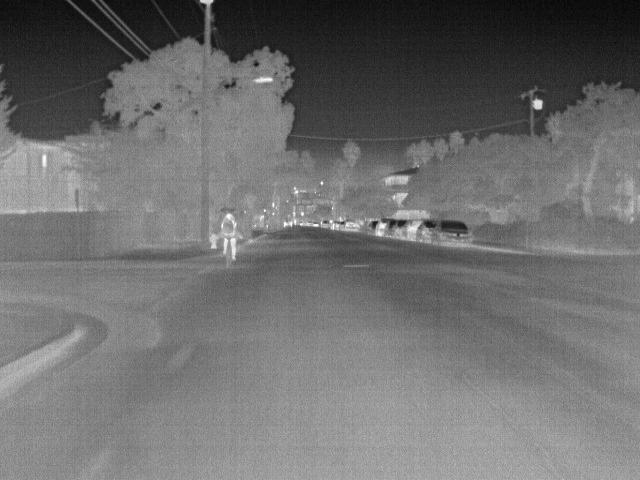car: (433, 221, 475, 247), (404, 217, 426, 241), (415, 223, 438, 242), (392, 220, 410, 238), (376, 218, 394, 236), (341, 218, 360, 234), (366, 220, 379, 236), (321, 218, 333, 230)
person: (222, 211, 239, 261)
